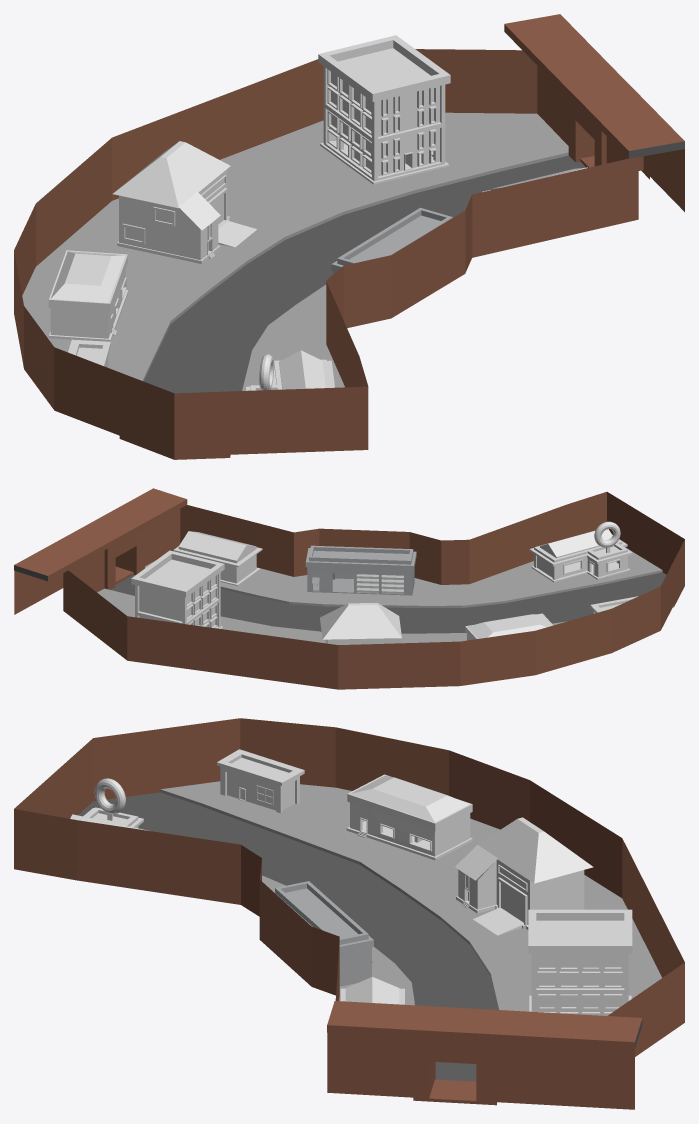
Rendered from FPS_SECTION_2.fbx.
3 renders of one model, top to bottom at view 1: azimuth 30°, elevation 25°; view 2: azimuth 150°, elevation 25°; view 3: azimuth 270°, elevation 25°, orthographic. The views are drawn at different scales.
Visible parts, largest first — view 1: Cube, Cube.002, Cube.003, Exterior, Cube.004, Cube.005, Cube.001; view 2: Cube, Cube.002, Cube.004, Cube.005, Cube.003, Cube.006, Exterior, Torus; view 3: Cube, Cube.002, Cube.003, Exterior, Cube.004, Cube.001, Cube.006, Cube.005, Torus.
Part boxes in pixels (bbox=[...]): Cube: bbox=[14, 14, 684, 459]; Cube.002: bbox=[318, 35, 450, 184]; Cube.003: bbox=[113, 141, 256, 263]; Exterior: bbox=[48, 250, 128, 341]; Cube.004: bbox=[331, 207, 452, 273]; Cube.005: bbox=[246, 350, 334, 390]; Cube.001: bbox=[68, 339, 110, 367]; Cube: bbox=[14, 488, 684, 689]; Cube.002: bbox=[131, 550, 224, 628]; Cube.004: bbox=[305, 545, 416, 595]; Cube.005: bbox=[529, 529, 632, 582]; Cube.003: bbox=[320, 603, 401, 644]; Cube.006: bbox=[173, 531, 262, 585]; Exterior: bbox=[465, 613, 553, 640]; Torus: bbox=[594, 521, 620, 547]; Cube: bbox=[14, 718, 684, 1109]; Cube.002: bbox=[528, 909, 632, 1015]; Cube.003: bbox=[455, 817, 593, 935]; Exterior: bbox=[346, 774, 472, 860]; Cube.004: bbox=[273, 881, 373, 986]; Cube.001: bbox=[217, 749, 304, 813]; Cube.006: bbox=[340, 977, 404, 1004]; Cube.005: bbox=[70, 807, 148, 830]; Torus: bbox=[94, 778, 125, 814].
Size of the model in its own units: 17848 by 2261 by 15270.
